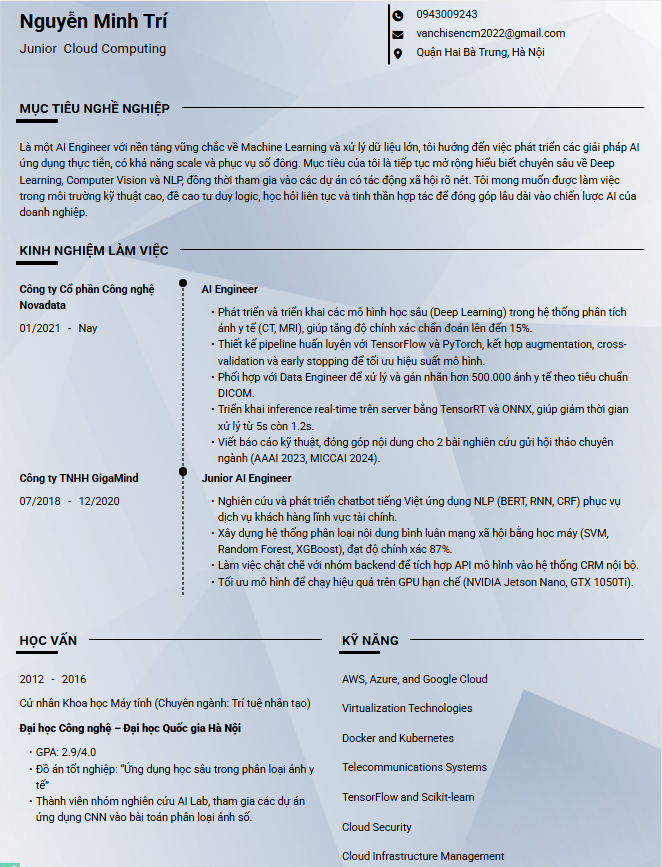address: (392, 44, 549, 61)
gpa: (25, 739, 101, 758)
level: (14, 38, 59, 59)
position: (61, 38, 170, 61)
skill: (333, 623, 657, 865)
